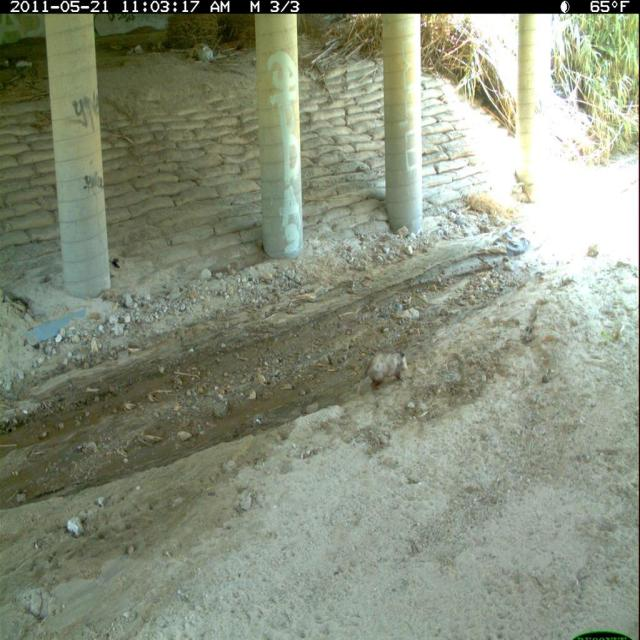opossum: (354, 348, 411, 400)
